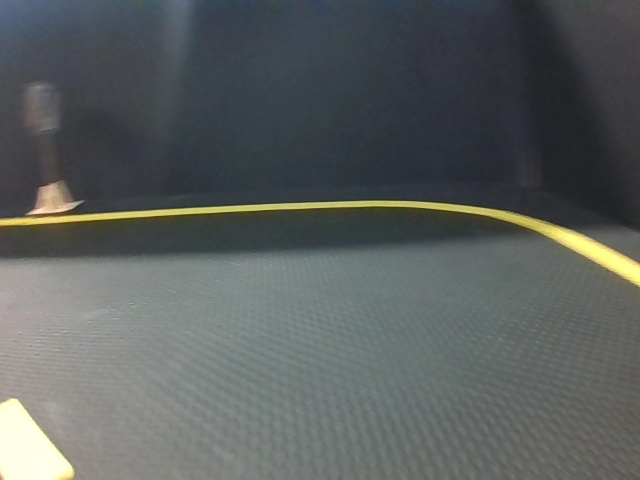no30: (29, 83, 57, 130)
